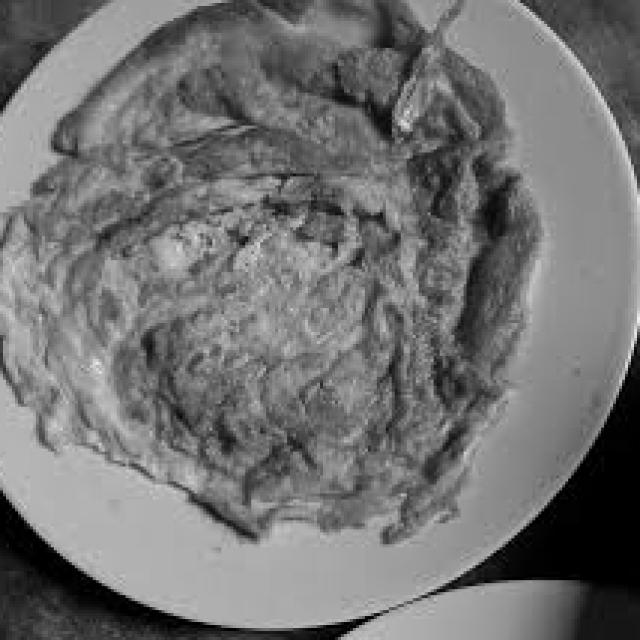telur_dadar: (0, 0, 526, 526)
